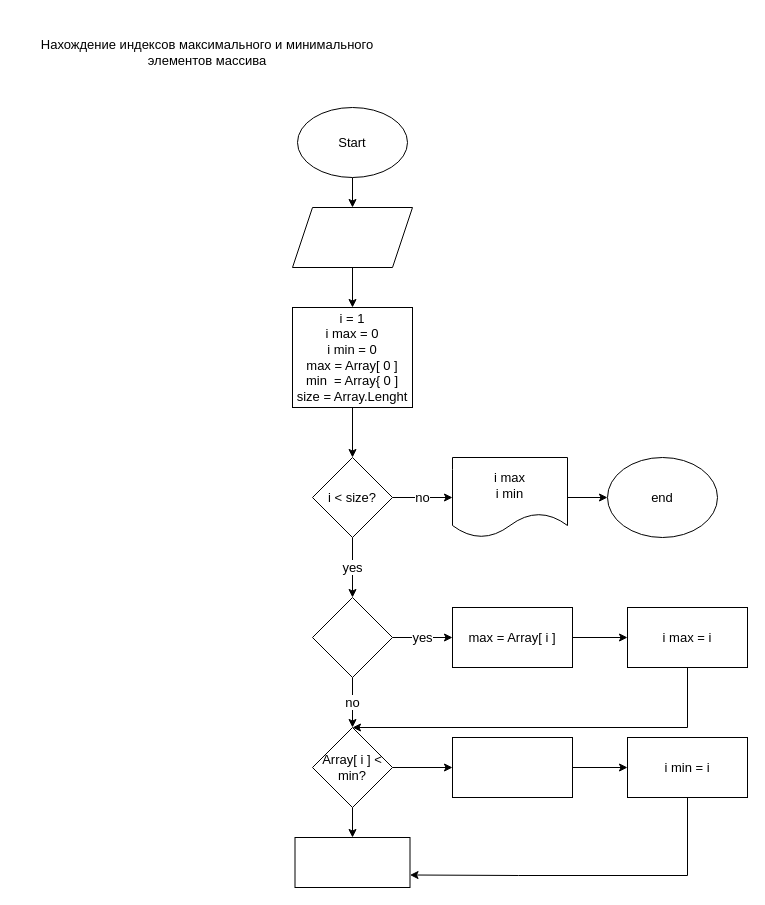
The diagram is 765 pixels wide and 905 high, and some of its shapes have lost their labels. The shapes that lost their labels are listed below. From the top down, each one's centre as x and y in pixels, then its label:
At (x=352, y=237): "Array [a, b, c]".
At (x=352, y=637): "Array[ i ] > max?".
At (x=512, y=767): "min = Array[ i ]".
At (x=352, y=862): "i ++".
